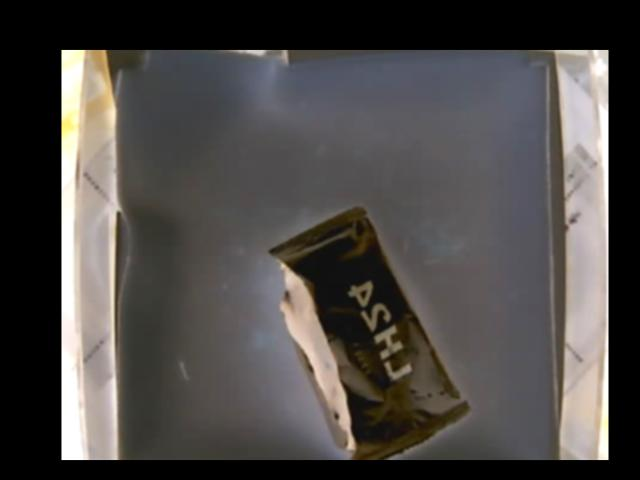Medicine: (268, 203, 470, 460)
